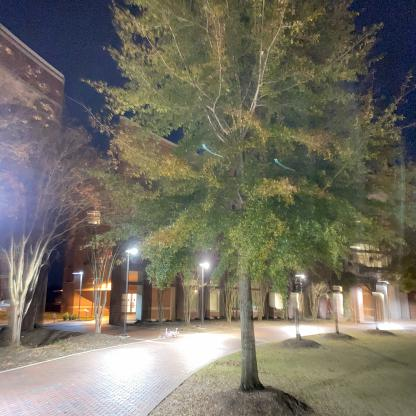eb2: (66, 121, 415, 322)
